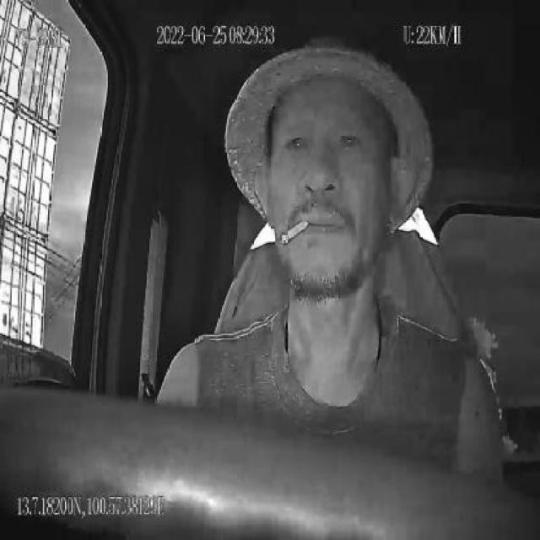smoking: (280, 217, 308, 246)
